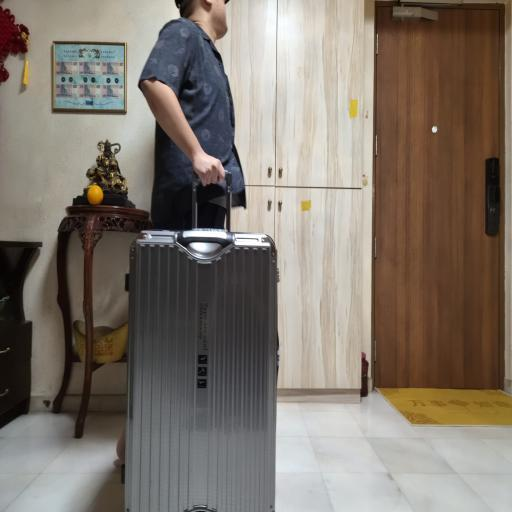person_right: (97, 1, 289, 506)
